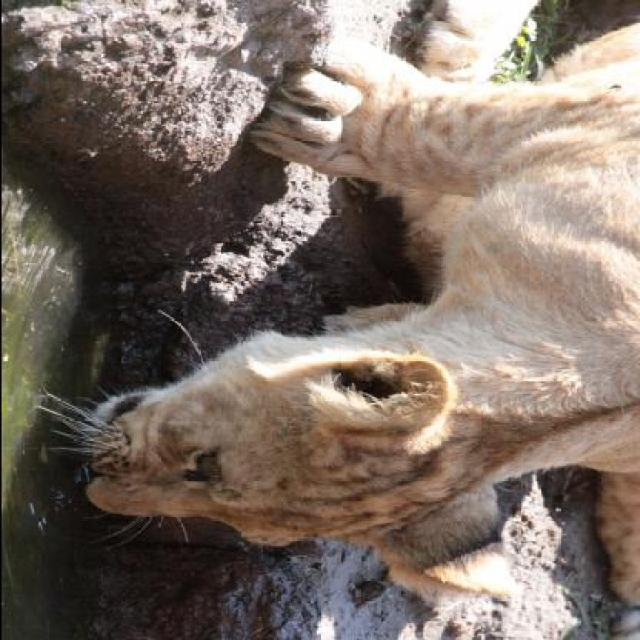Lion: (70, 2, 638, 623)
